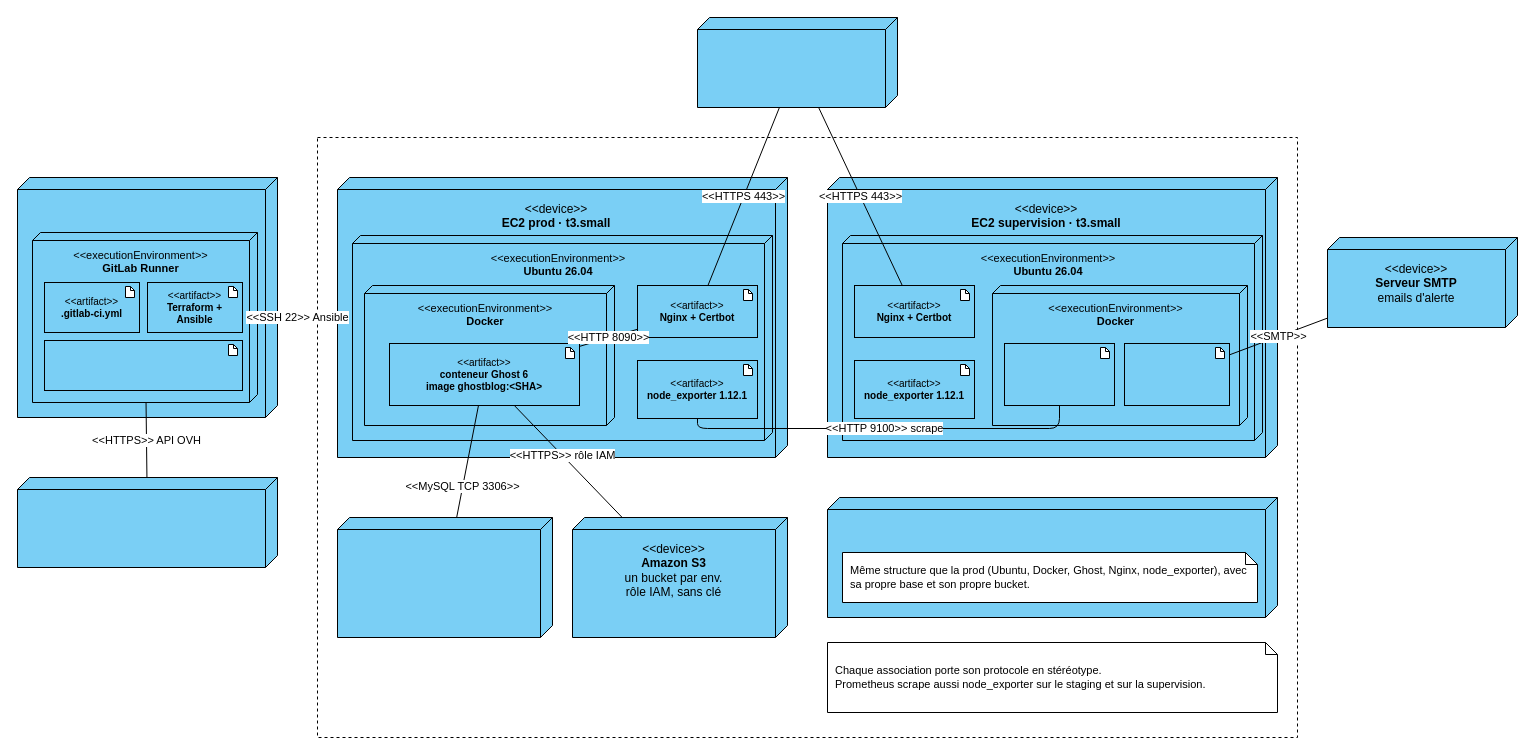
Some shapes in this 1535 by 755 pixel diagram are drawn without their labels. The shapes that lost their labels are listed below. From the top down, each one's box as (x1, y1, x2, y2) in pixels, then its label:
(696, 16, 898, 108): <<device>> Navigateur visiteur, jury
(16, 176, 278, 418): <<device>> GitLab.com
(44, 340, 242, 390): <<artifact>> image Ghost (registry, par SHA)
(1004, 342, 1114, 406): <<artifact>> Prometheus v3.15.0
(1124, 342, 1230, 406): <<artifact>> Grafana 13.2.3
(316, 136, 1298, 738): AWS · eu-west-3 (Paris) · un VPC
(16, 476, 278, 568): <<device>> OVH zone DNS lacera.fr
(336, 516, 552, 638): <<device>> Amazon RDS MySQL 8.4 · une base par env. non exposée à Internet
(826, 496, 1278, 618): <<device>> EC2 staging · t3.small
